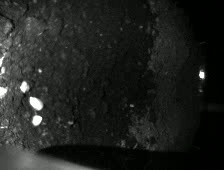corn: (29, 96, 44, 111), (32, 115, 43, 127)
